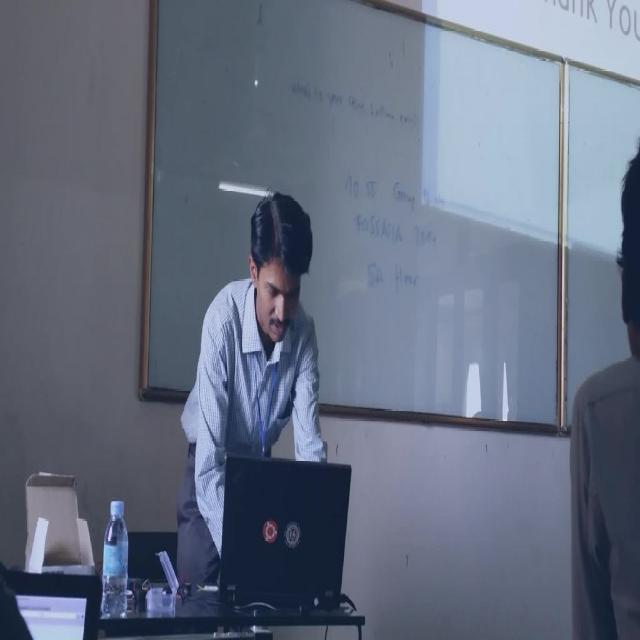desk: (0, 579, 366, 639)
laptop: (217, 454, 352, 612), (7, 573, 97, 640)
person: (177, 191, 327, 580), (570, 144, 640, 630)
